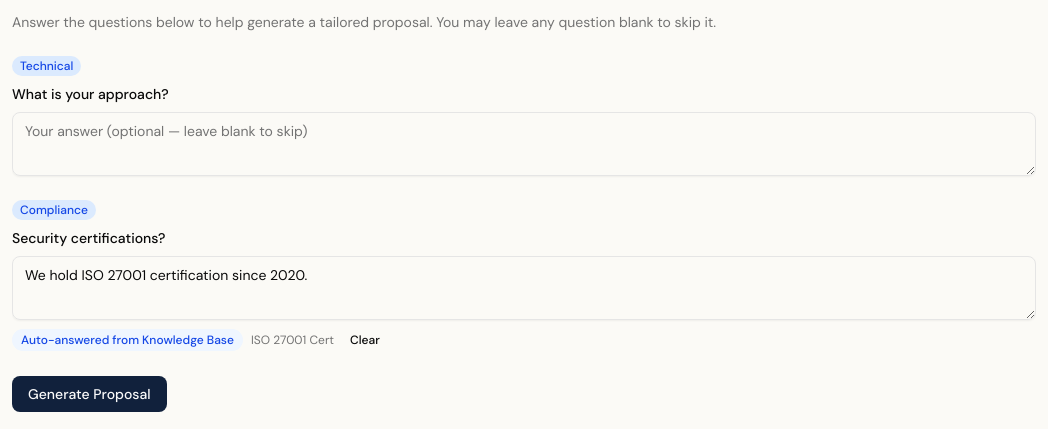
Test case: ClarifyingQuestionsForm — KB pre-fill › clear button empties textarea and removes badge
Click the button with aria-label "clear suggestion" at x=365, y=340, box [342,328,388,352]
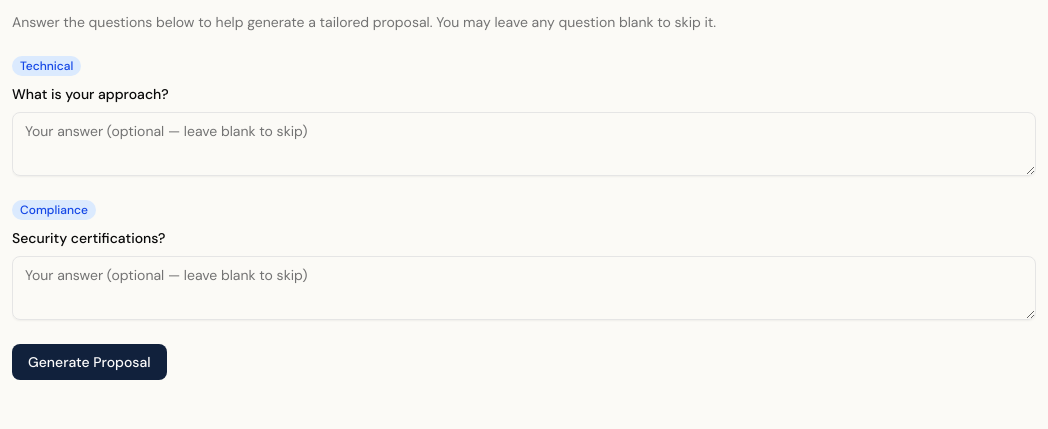
Expected: the text box labelled "Security certifications?" is empty, [12,256,1036,320]
Expected: the text "Auto-answered from Knowledge Base" is gone
